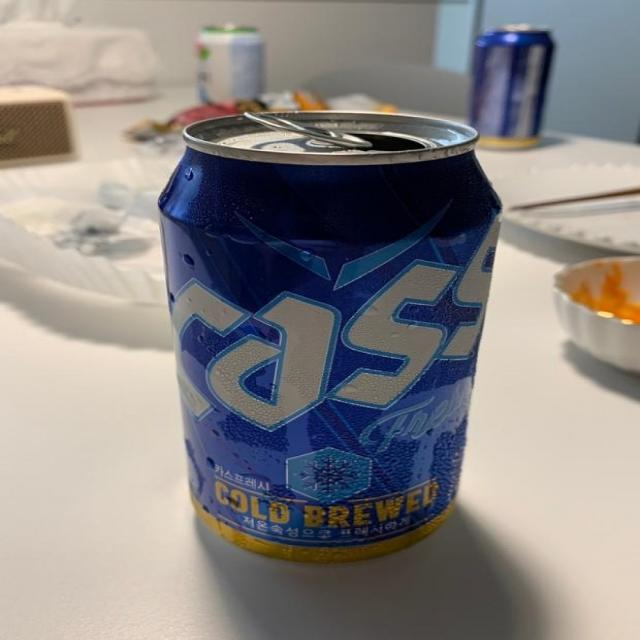beer-can: (146, 101, 502, 586)
